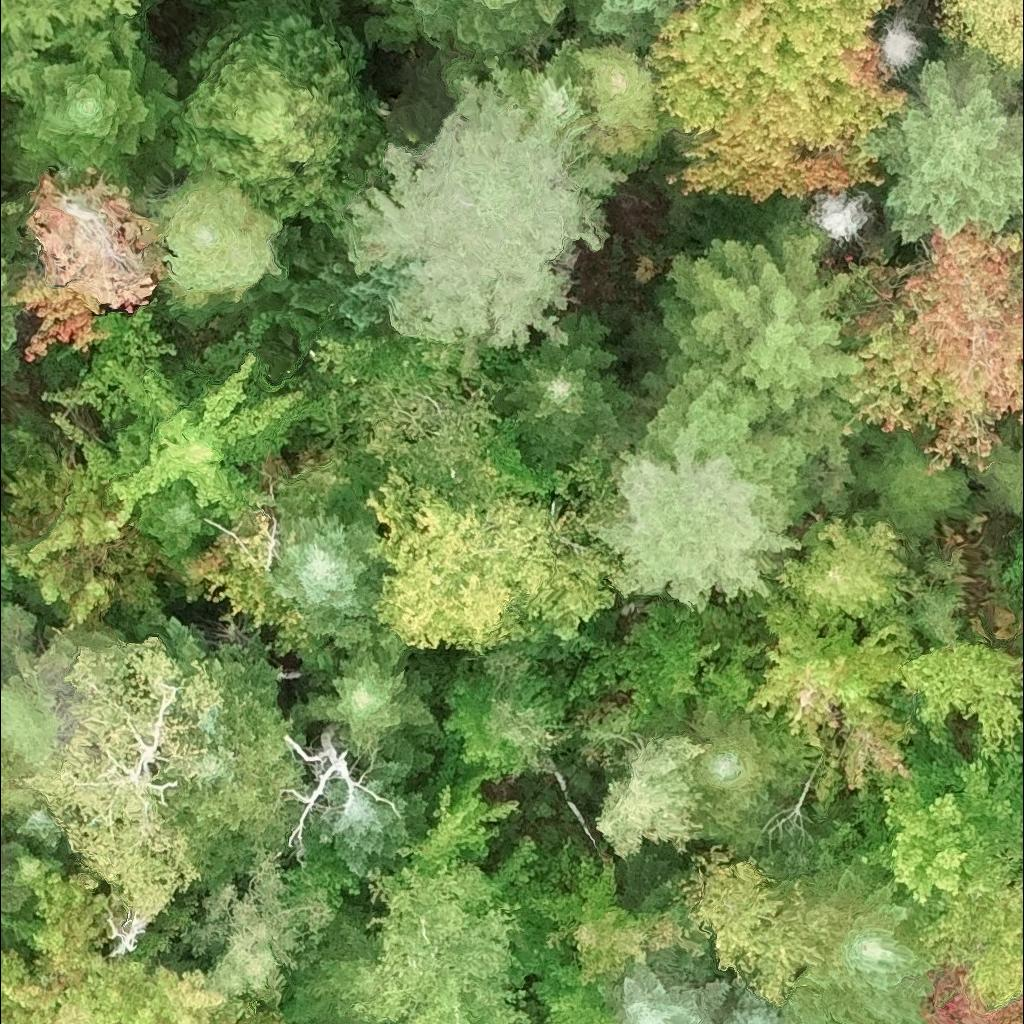crown: (327, 72, 632, 374), (20, 635, 227, 922), (649, 216, 869, 469), (50, 328, 325, 528), (640, 0, 908, 205), (362, 462, 620, 656), (830, 226, 1023, 474), (167, 10, 379, 230), (0, 871, 292, 1023), (155, 615, 308, 885), (744, 602, 918, 822), (585, 446, 802, 614), (0, 441, 181, 635), (853, 41, 1023, 247), (631, 347, 817, 529), (852, 730, 1023, 920), (12, 163, 166, 365), (350, 859, 537, 1023), (674, 840, 848, 1008), (780, 842, 940, 1023), (487, 305, 651, 471), (180, 848, 340, 1016), (0, 49, 182, 193), (261, 480, 403, 657), (519, 852, 707, 985), (689, 695, 828, 852), (287, 643, 447, 773), (140, 169, 288, 294), (275, 724, 399, 866), (303, 755, 431, 883), (844, 422, 979, 540), (538, 37, 661, 166), (894, 641, 1023, 760), (0, 0, 144, 102), (397, 763, 524, 873), (917, 879, 1023, 1008), (282, 225, 396, 330), (363, 0, 570, 57), (482, 52, 593, 150), (586, 957, 735, 1023), (931, 0, 1023, 74), (133, 479, 216, 559), (568, 0, 679, 54), (527, 958, 615, 1023), (801, 186, 873, 246), (0, 213, 28, 364), (0, 803, 71, 858), (0, 840, 73, 892), (0, 733, 42, 818), (877, 12, 932, 75), (726, 973, 787, 1023), (0, 828, 32, 920), (106, 908, 152, 958), (0, 506, 17, 606), (0, 923, 33, 962), (1009, 866, 1023, 890), (1016, 407, 1023, 452), (1021, 490, 1023, 522)
